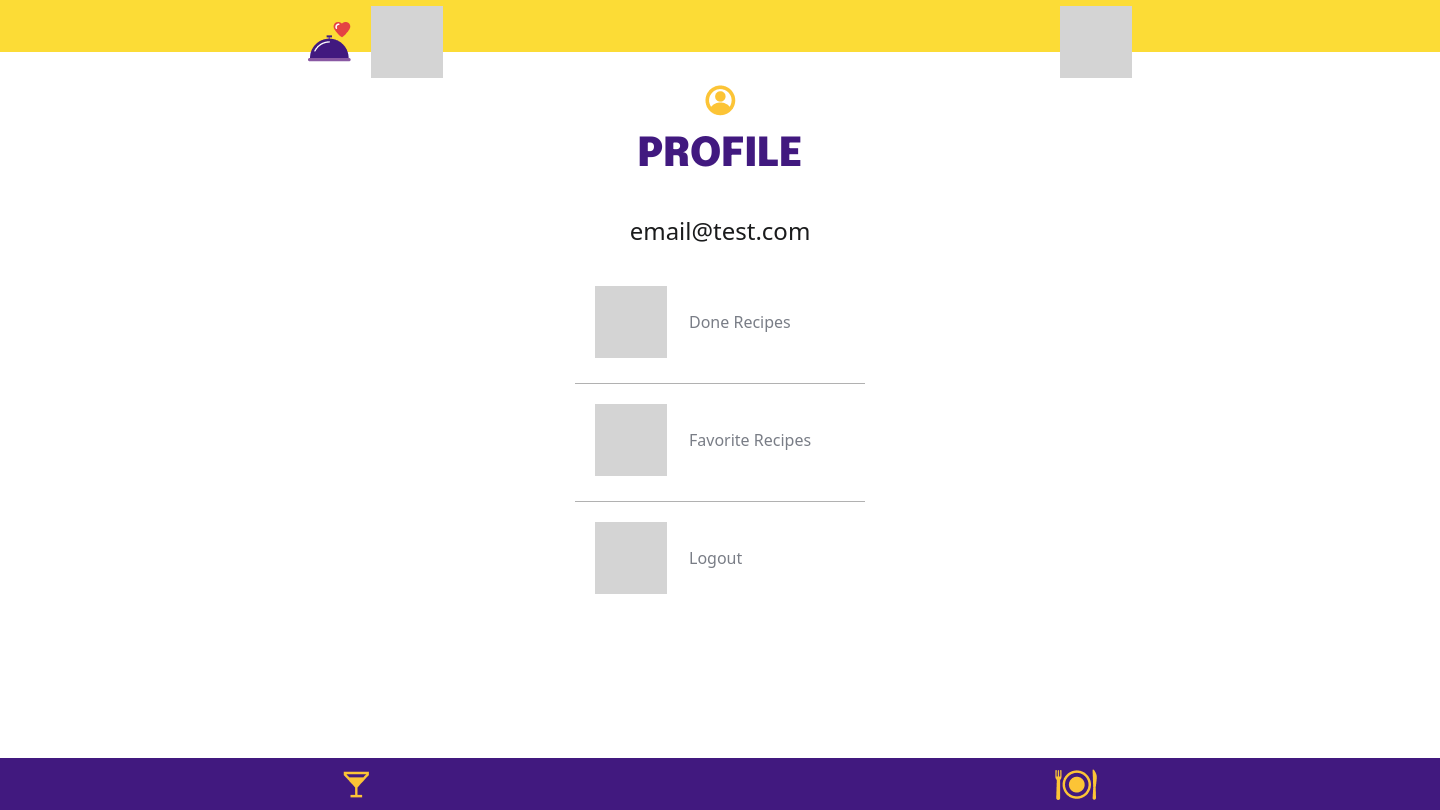
Test case: Testes Profile › Verifica se ao clicar no botão Favorite Recipes, a rota muda para /favorite-recipes
The image size is (1440, 810).
Click the button "Favorite Recipes": point(750, 440) [689,404,811,476]
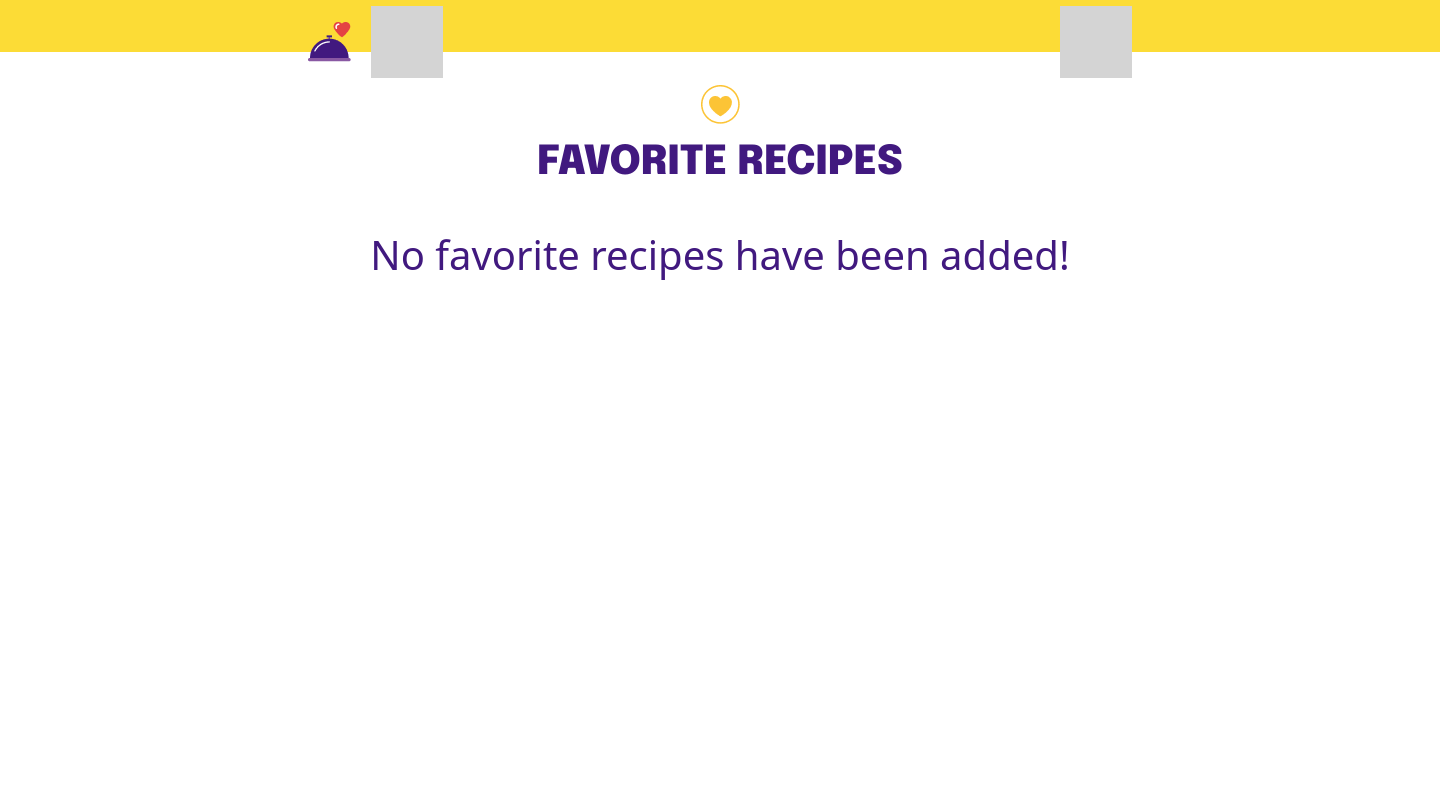
Expected: the heading "Favorite Recipes" is shown, [537,139,903,187]
